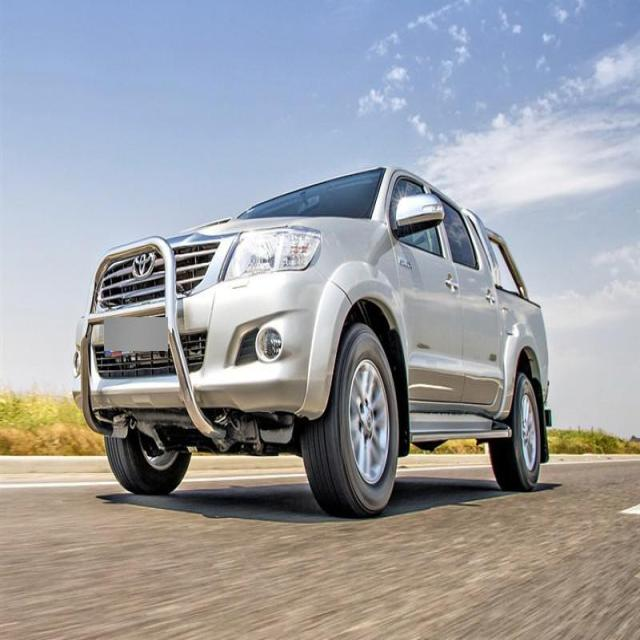door: (434, 190, 507, 404)
front_bumper: (78, 264, 354, 416)
front_glass: (236, 165, 386, 221)
front_left_side_door: (383, 167, 466, 408)
front_left_side_light: (220, 226, 323, 282)
front_left_side_mirror: (391, 194, 445, 236)
wheel: (306, 334, 398, 509), (104, 424, 190, 494), (492, 374, 542, 486)
